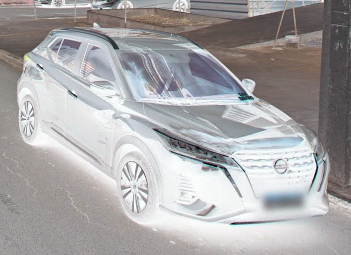car: (17, 27, 331, 235)
